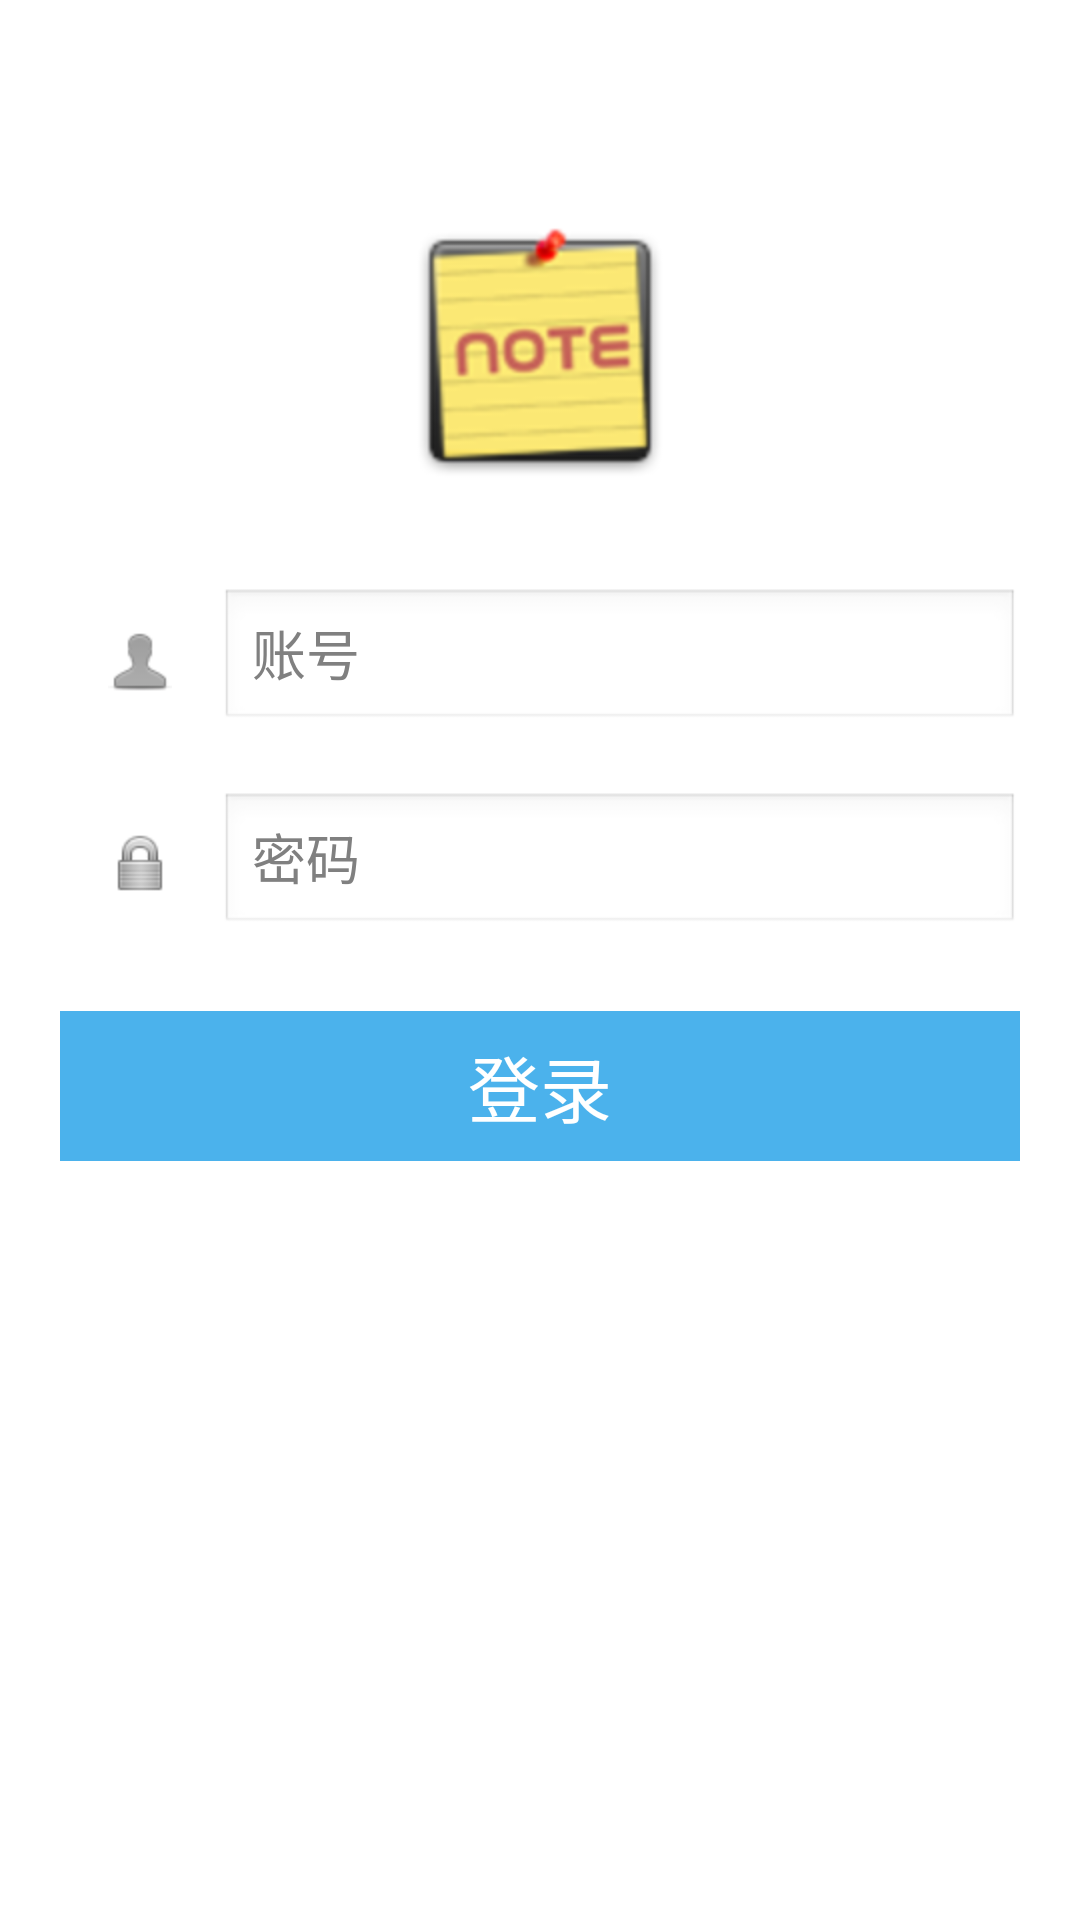

Screen size 1080w x 1920h. Icon name, then its center in pixels as (x=x, y=y):
password: (x=140, y=863)
user: (x=140, y=661)
